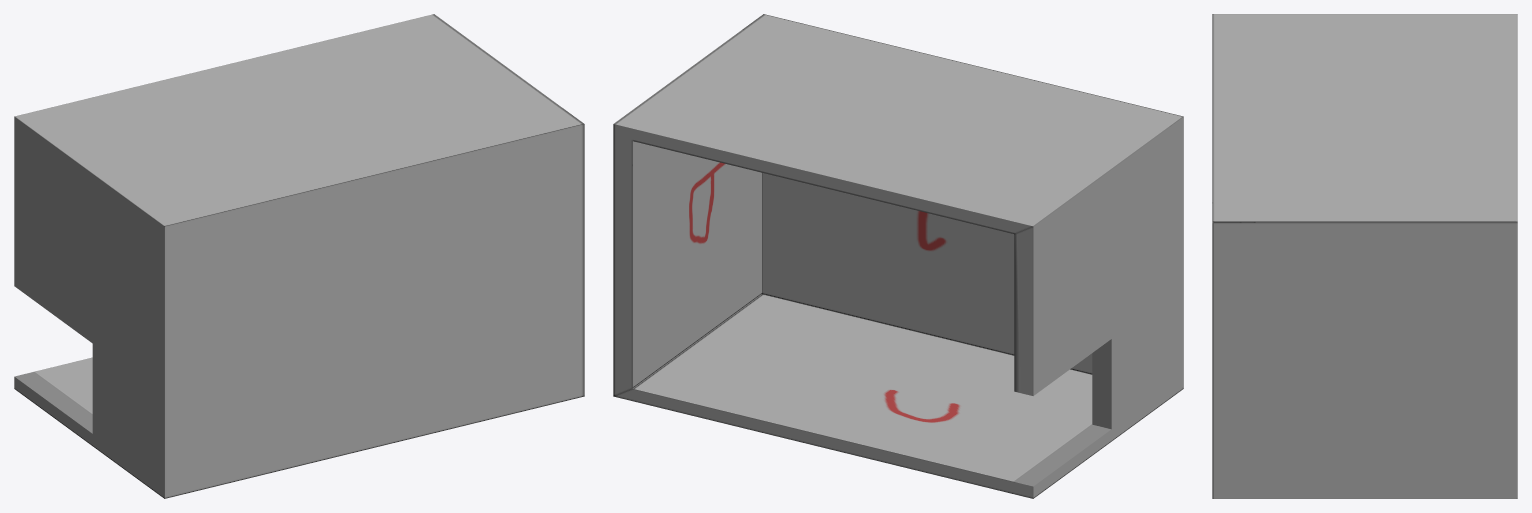
File: roomRdoor.fbx
The picture shows the model from 3 angles, left to right: view 1: azimuth 30°, elevation 25°; view 2: azimuth 150°, elevation 25°; view 3: azimuth 270°, elevation 25°; orthographic projection.
Visible parts, largest first — view 1: Cube; view 2: Cube; view 3: Cube.
Part boxes in pixels (x1,y1,x2,y2): Cube: (14, 14, 584, 498); Cube: (613, 14, 1183, 498); Cube: (1212, 14, 1517, 498).
Bounding box in the file's own units: 3.23 × 2 × 2.
Materials: 1 (1 with a texture image).
